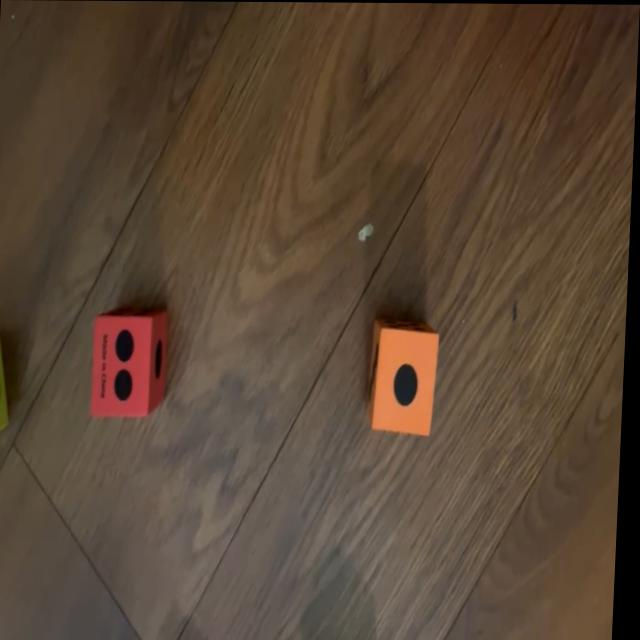red_block: (93, 305, 172, 419)
